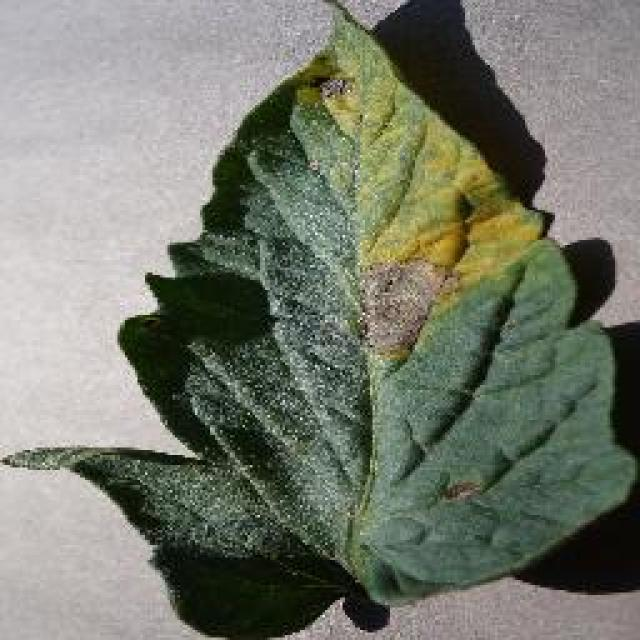Tomato___Early_blight: (0, 0, 638, 638)
